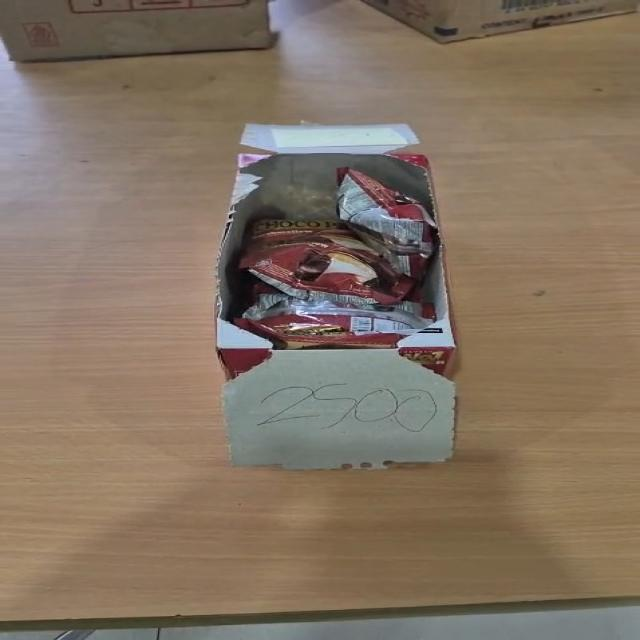Chocopie: (235, 218, 418, 306), (233, 292, 436, 349), (336, 167, 437, 281)
